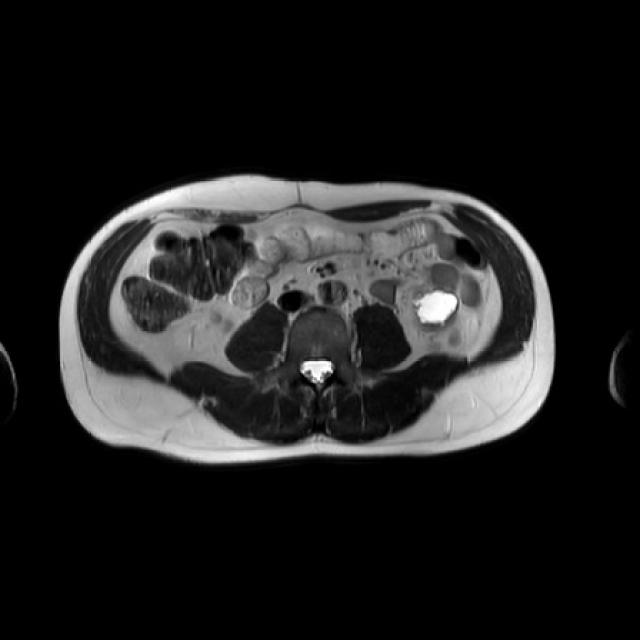sag: (209, 309, 234, 331)
sol: (415, 289, 460, 330)
